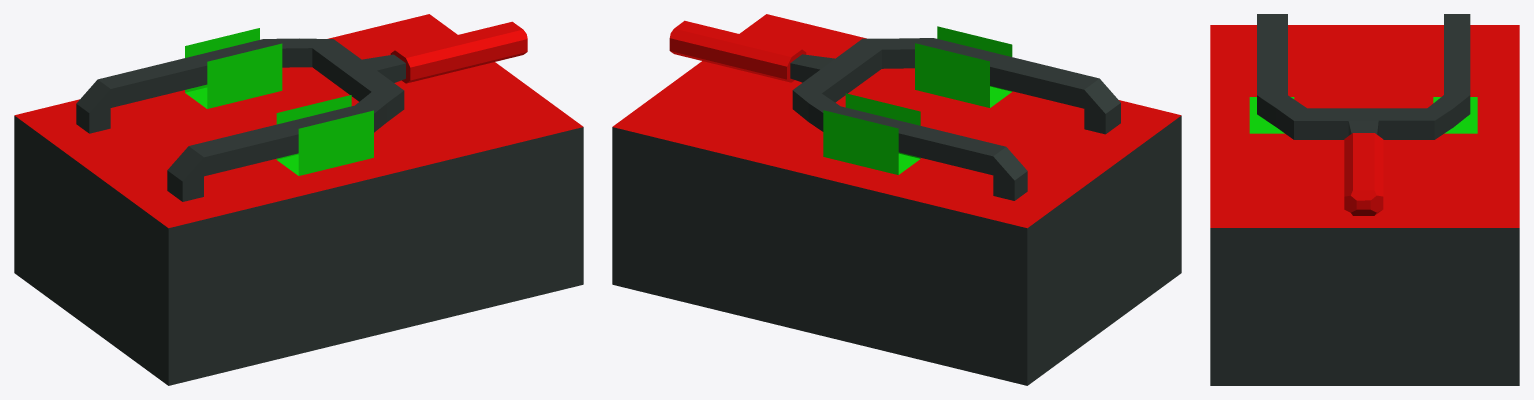
The model's file is SM_Lever.fbx.
The picture shows the model from 3 angles, left to right: view 1: azimuth 30°, elevation 25°; view 2: azimuth 150°, elevation 25°; view 3: azimuth 270°, elevation 25°; orthographic projection.
Parts seen in each view (by area): view 1: Cube.020, SM_Lever; view 2: Cube.020, SM_Lever; view 3: Cube.020, SM_Lever.
Part boxes in pixels (x1,y1,x2,y2): Cube.020: (14, 14, 583, 385); SM_Lever: (76, 21, 527, 201); Cube.020: (612, 14, 1181, 385); SM_Lever: (669, 20, 1120, 200); Cube.020: (1210, 25, 1519, 385); SM_Lever: (1257, 14, 1470, 215).
Size of the model in its own units: 23.92 by 38.5 by 17.64.
